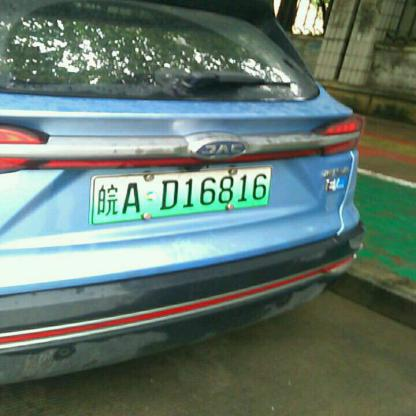lp: (92, 167, 271, 222)
